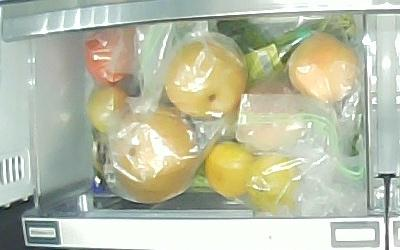peach_vinyl: (286, 32, 358, 104)
pear_vinyl: (110, 108, 198, 204), (162, 40, 247, 120)
tangerine_vinyl: (248, 155, 300, 214), (205, 139, 254, 198)
tomato_vinyl: (84, 27, 141, 90), (86, 84, 132, 134)
